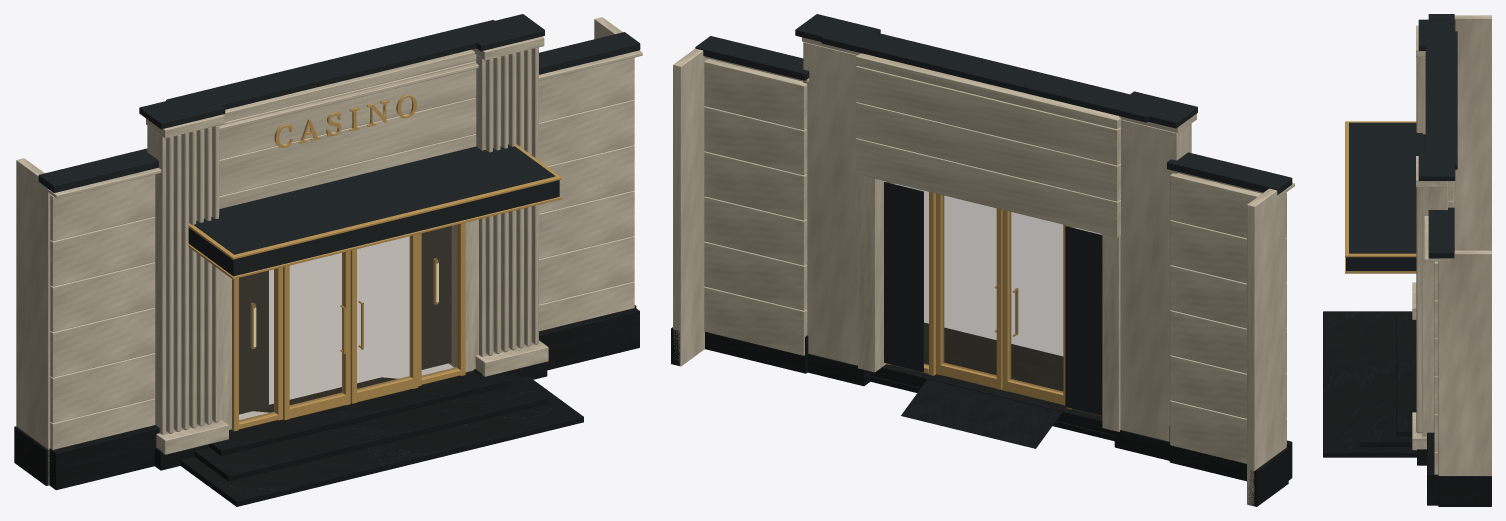
File: casino-facade-v1.glb
3 views of the same model, side by side, from view 1: azimuth 30°, elevation 25°; view 2: azimuth 150°, elevation 25°; view 3: azimuth 270°, elevation 25° (orthographic). The views are drawn at different scales.
Visible parts, largest first — view 1: Static — Facade limestone, Static — Facade canopy charcoal, Static — Facade dark marble, Static — Facade bronze glass, Static — Facade brushed brass, DoorRight — Facade bronze glass, DoorLeft — Facade bronze glass, DoorRight — Facade brushed brass, DoorLeft — Facade brushed brass; view 2: Static — Facade limestone, Static — Facade canopy charcoal, Static — Facade dark marble, DoorRight — Facade bronze glass, DoorLeft — Facade bronze glass, DoorRight — Facade brushed brass, DoorLeft — Facade brushed brass, Static — Facade brushed brass, Static — Facade bronze glass; view 3: Static — Facade limestone, Static — Facade canopy charcoal, Static — Facade dark marble, Static — Facade brushed brass.
Part boxes in pixels (<box>): Static — Facade limestone: <box>16,17,642,484</box>; Static — Facade canopy charcoal: <box>38,14,640,414</box>; Static — Facade dark marble: <box>14,305,639,506</box>; Static — Facade bronze glass: <box>239,224,458,421</box>; Static — Facade brushed brass: <box>188,94,561,431</box>; DoorRight — Facade bronze glass: <box>357,236,411,390</box>; DoorLeft — Facade bronze glass: <box>290,252,343,406</box>; DoorRight — Facade brushed brass: <box>350,234,418,403</box>; DoorLeft — Facade brushed brass: <box>283,250,350,420</box>; Static — Facade limestone: <box>673,37,1294,505</box>; Static — Facade canopy charcoal: <box>695,14,1292,415</box>; Static — Facade dark marble: <box>671,322,1292,506</box>; DoorRight — Facade bronze glass: <box>942,195,996,376</box>; DoorLeft — Facade bronze glass: <box>1009,212,1062,392</box>; DoorRight — Facade brushed brass: <box>936,193,1002,390</box>; DoorLeft — Facade brushed brass: <box>1002,210,1066,405</box>; Static — Facade brushed brass: <box>886,181,1101,415</box>; Static — Facade bronze glass: <box>893,183,1101,365</box>; Static — Facade limestone: <box>1412,15,1491,475</box>; Static — Facade canopy charcoal: <box>1346,14,1457,271</box>; Static — Facade dark marble: <box>1323,311,1491,506</box>; Static — Facade brushed brass: <box>1345,121,1416,273</box>.
Bounding box in the file's own units: 8.5 × 4.76 × 2.52.
Materials: 6 (2 with a texture image).
